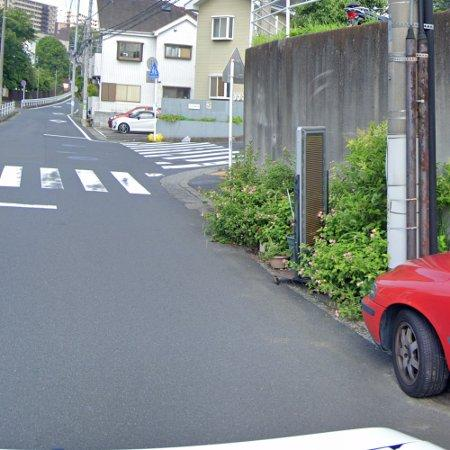crosswalks: (122, 140, 230, 171)
